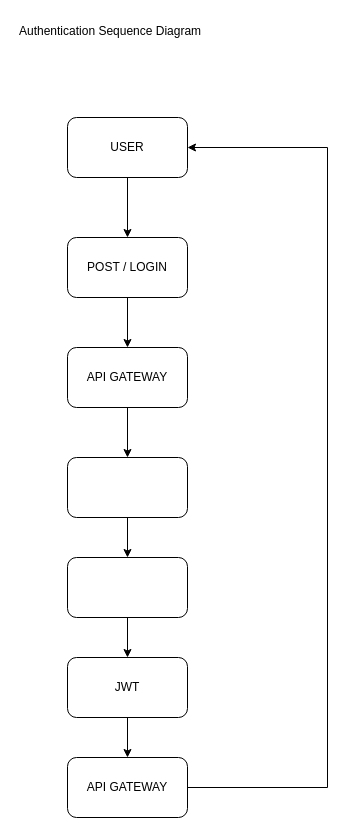
This 353x835 diagram has some shape labels left out. Here are the shapes that lost their labels. From the top down, the centre of each, then its label:
point 127,487: AUTH SERVICE
point 127,587: POSTGRE SQL
